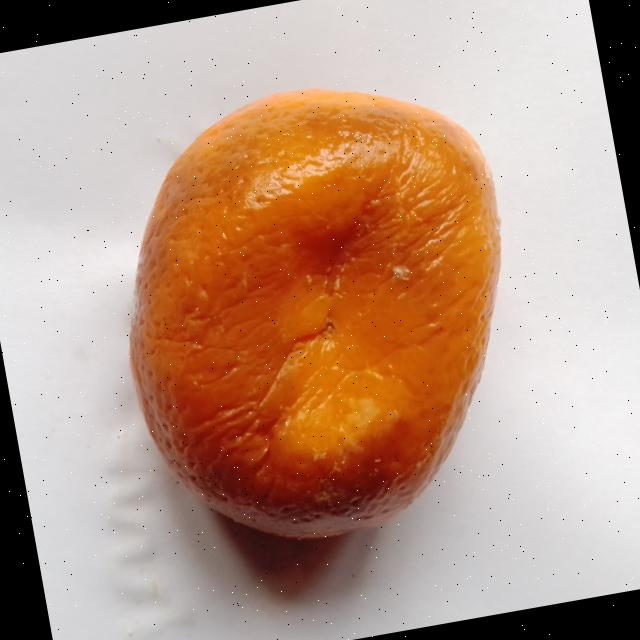Rotten: (88, 61, 547, 567)
